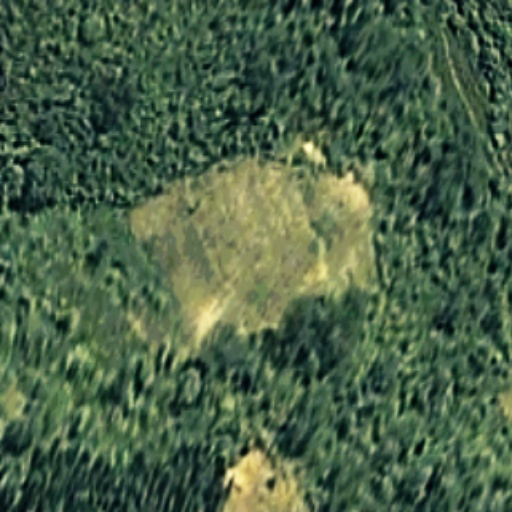landslide: (144, 156, 373, 344), (223, 448, 314, 511)
